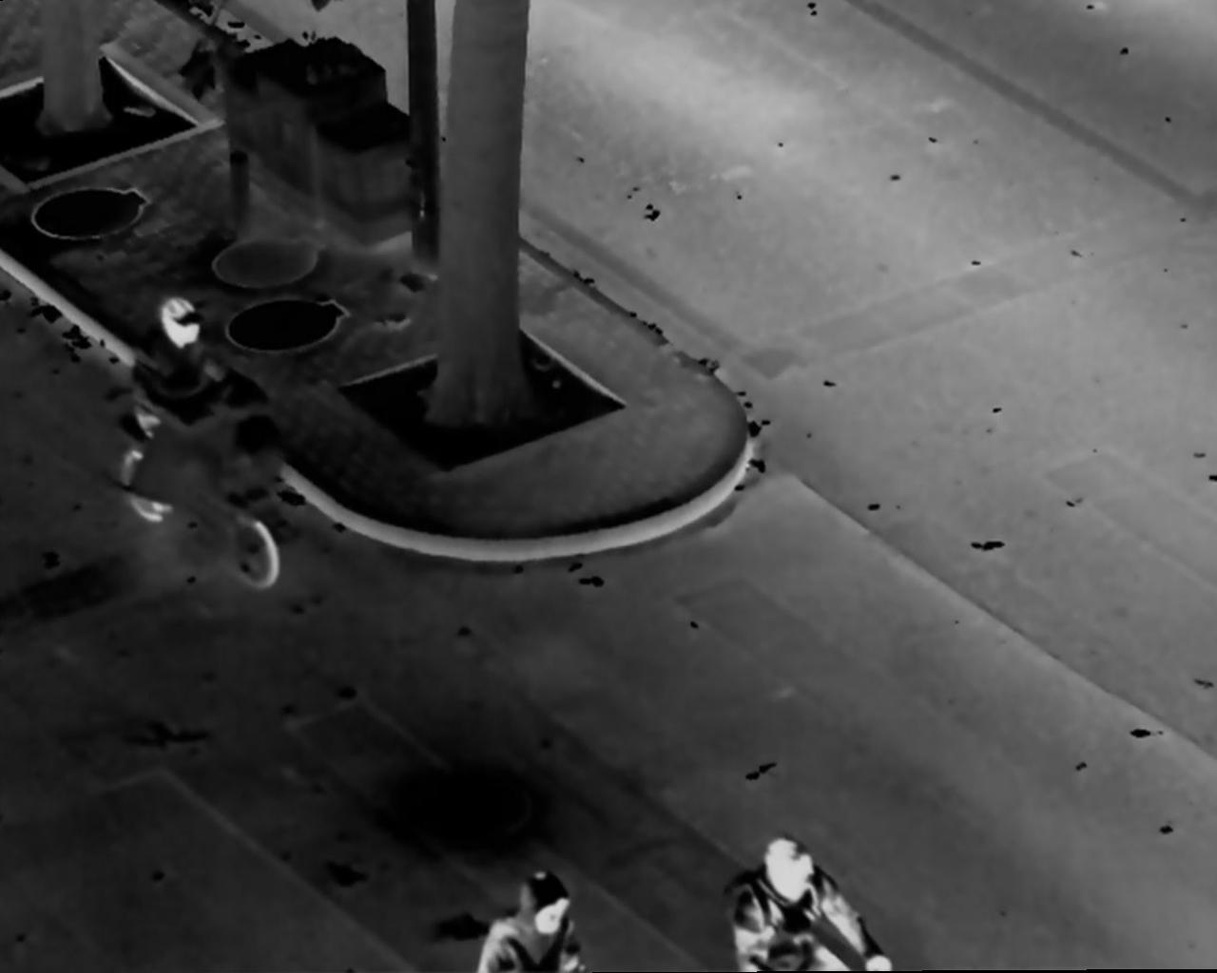person: (130, 285, 253, 532), (723, 832, 896, 973), (474, 855, 595, 973)
